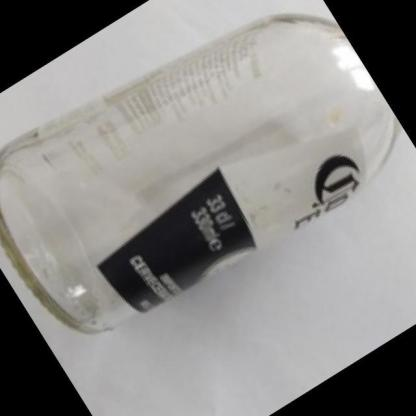Can: (0, 13, 403, 336)
